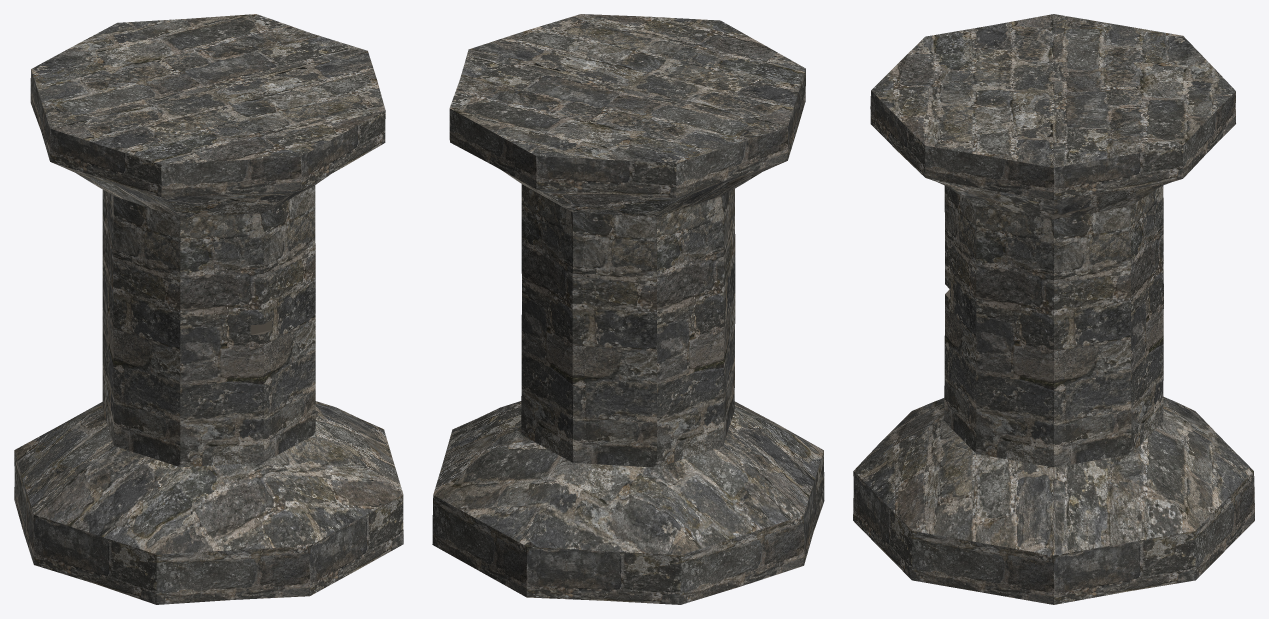
File: artifact-pedestal-v01.glb
The picture shows the model from 3 angles, left to right: view 1: azimuth 30°, elevation 25°; view 2: azimuth 150°, elevation 25°; view 3: azimuth 270°, elevation 25°; orthographic projection.
Parts seen in each view (by area): view 1: artifact-pedestal; view 2: artifact-pedestal; view 3: artifact-pedestal.
Part boxes in pixels (x1,y1,x2,y2): artifact-pedestal: (14,14,403,604); artifact-pedestal: (432,14,824,604); artifact-pedestal: (853,14,1254,604).
Size of the model in its own units: 1.1 by 1.3 by 1.1.
1 material, 1 textured.
